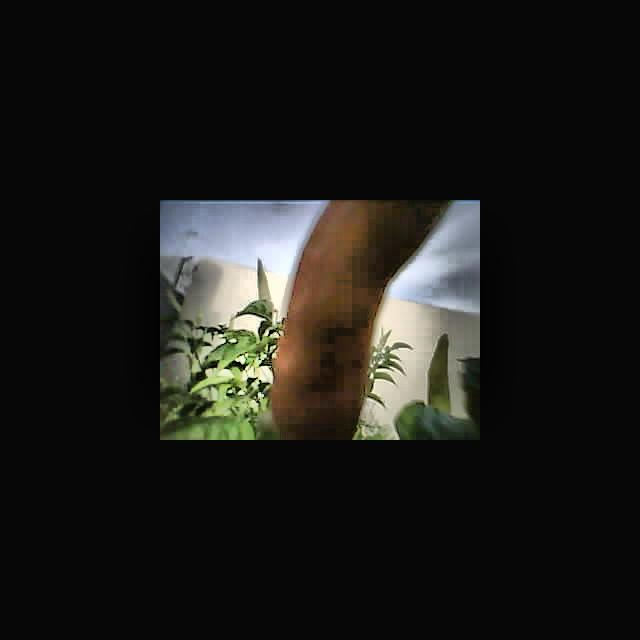Cabai: (256, 200, 444, 435)
